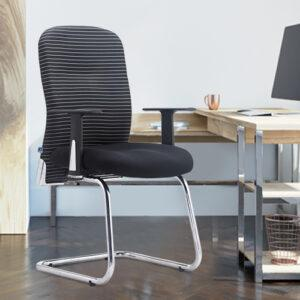chair: (25, 16, 211, 300)
